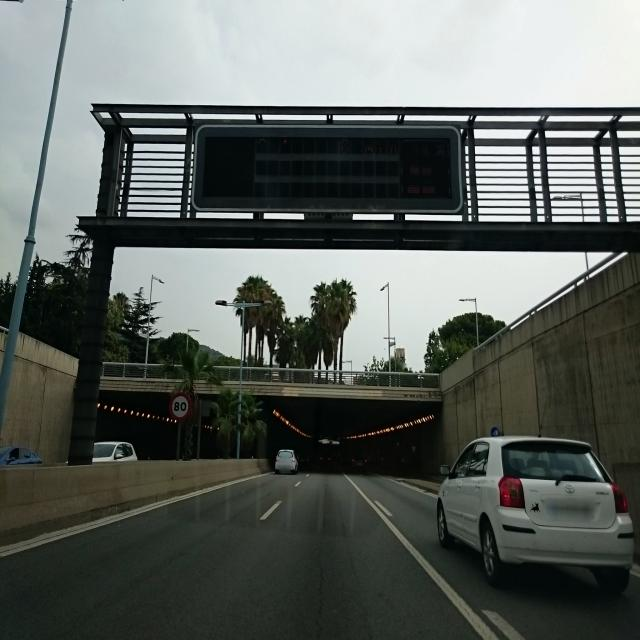car: (436, 430, 635, 594), (91, 440, 137, 464), (0, 446, 44, 468), (274, 449, 298, 474), (350, 454, 368, 470)
